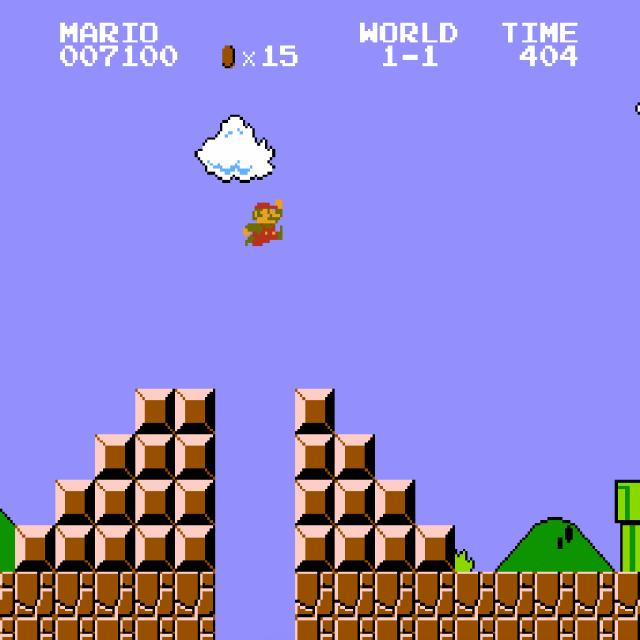hard_block: (55, 480, 95, 526), (95, 434, 135, 480), (95, 480, 135, 526), (135, 434, 175, 480), (135, 480, 175, 526), (175, 434, 215, 480), (175, 480, 215, 526), (295, 434, 335, 480), (295, 480, 335, 526), (335, 434, 375, 480), (335, 480, 375, 526), (375, 480, 415, 526), (15, 526, 55, 571), (55, 526, 95, 571), (95, 526, 135, 571), (135, 389, 175, 434), (135, 526, 175, 571), (175, 389, 215, 434), (175, 526, 215, 571), (295, 389, 335, 434), (295, 526, 335, 571), (335, 526, 375, 571), (375, 526, 415, 571), (415, 526, 455, 571)
little_mario: (240, 197, 282, 246)
pipe: (614, 525, 640, 571)
pipe_head: (614, 480, 640, 525)
undestructible_block: (15, 572, 55, 617), (55, 572, 95, 617), (95, 572, 135, 617), (135, 572, 175, 617), (175, 572, 215, 617), (295, 572, 335, 617), (335, 572, 375, 617), (375, 572, 415, 617), (415, 572, 455, 617), (455, 572, 495, 617), (495, 572, 535, 617), (535, 572, 575, 617), (575, 572, 615, 617), (614, 571, 640, 617), (15, 617, 55, 640), (55, 617, 95, 640), (95, 617, 135, 640), (135, 617, 175, 640), (175, 617, 215, 640), (295, 617, 335, 640), (335, 617, 375, 640), (375, 617, 415, 640), (415, 617, 455, 640), (455, 617, 495, 640), (495, 617, 535, 640), (535, 617, 575, 640), (575, 617, 615, 640), (0, 572, 15, 617), (614, 617, 640, 639), (0, 617, 15, 640)
